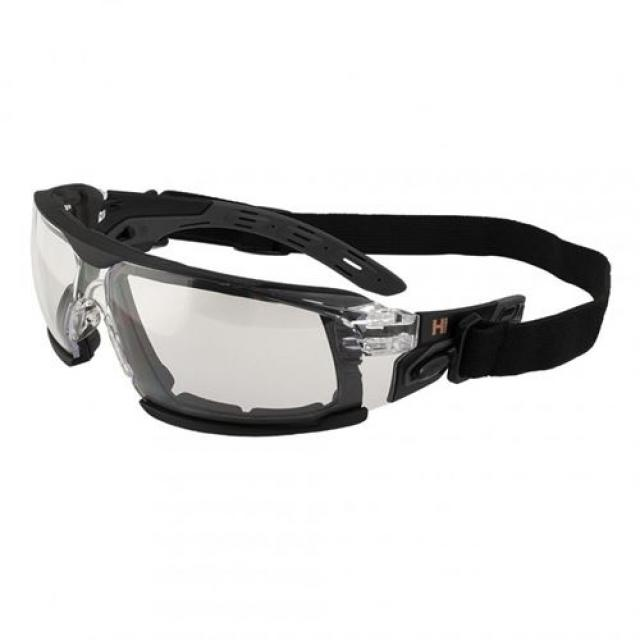Protective Glasses: (3, 149, 640, 496)
